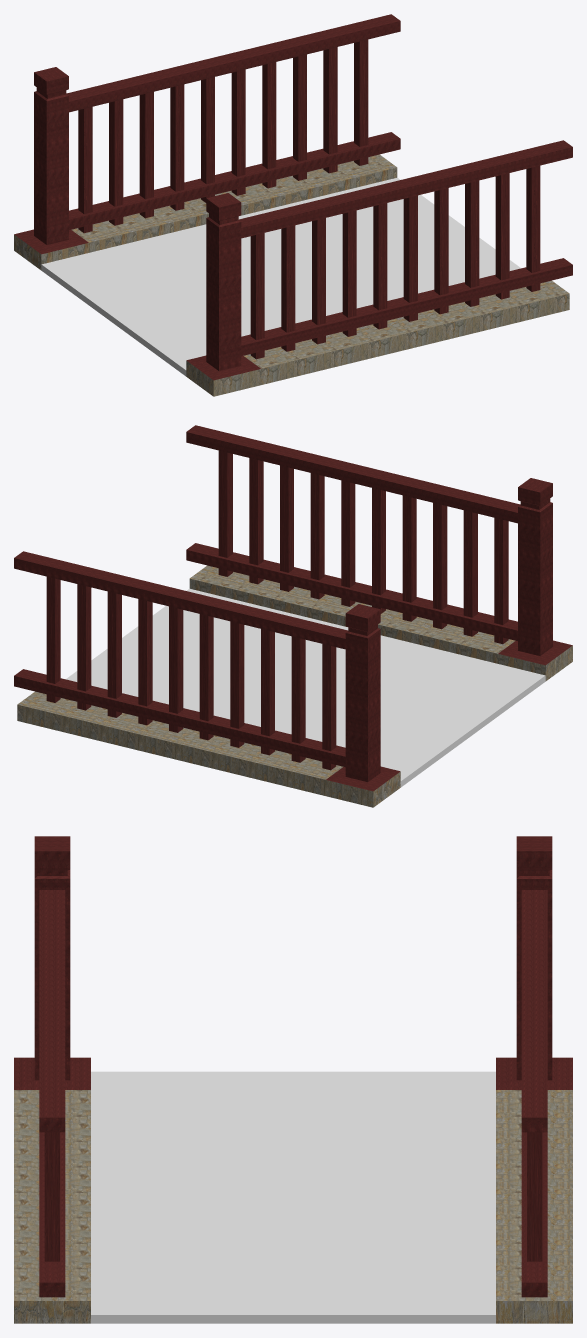
The model's file is Puente.fbx.
3 renders of one model, top to bottom at view 1: azimuth 30°, elevation 25°; view 2: azimuth 150°, elevation 25°; view 3: azimuth 270°, elevation 25°, orthographic. The views are drawn at different scales.
Parts seen in each view (by area): view 1: Puente; view 2: Puente; view 3: Puente.
Boxes of the visible parts, bbox=[...] form: Puente: bbox=[14, 14, 572, 396]; Puente: bbox=[14, 425, 572, 807]; Puente: bbox=[14, 836, 572, 1323].
Size of the model in its own units: 3325 by 1558 by 3122.
